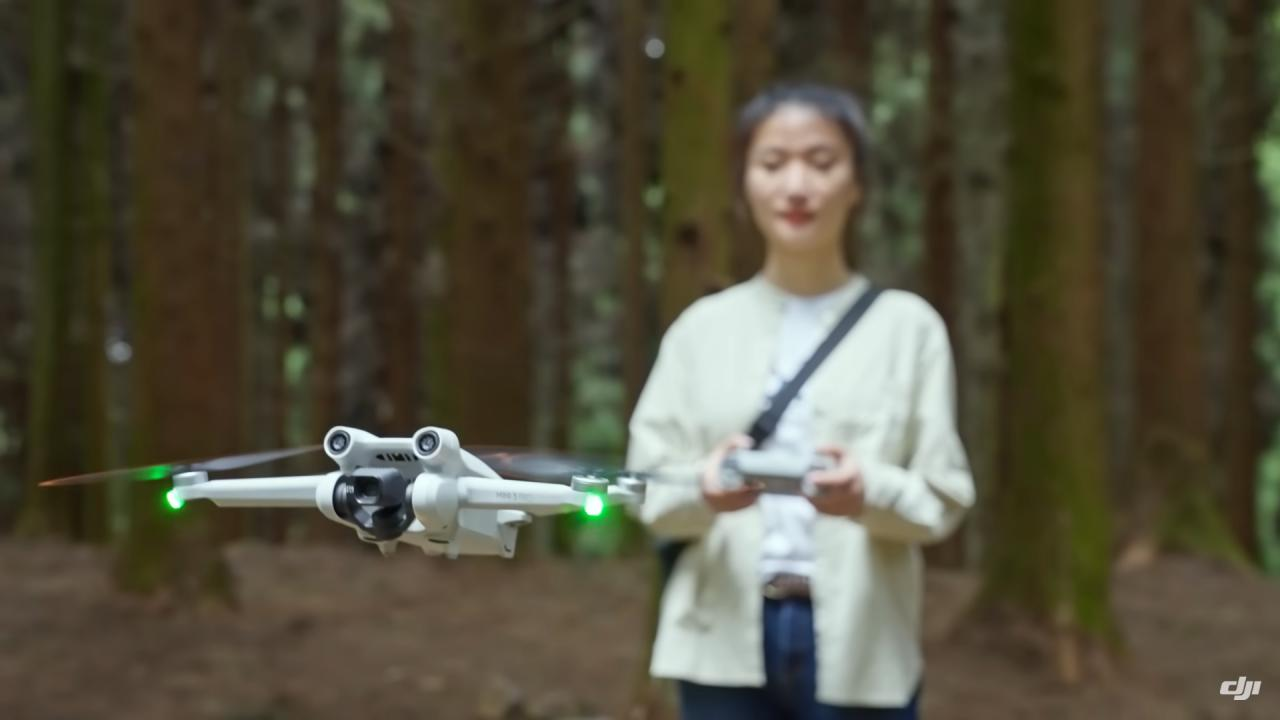Drone: (25, 412, 774, 575)
